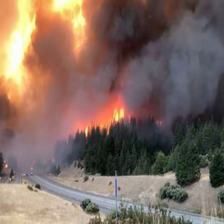fire: (6, 10, 148, 136)
